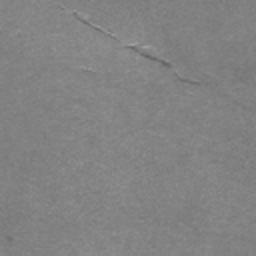Finishing roll printing: (63, 6, 200, 84)
